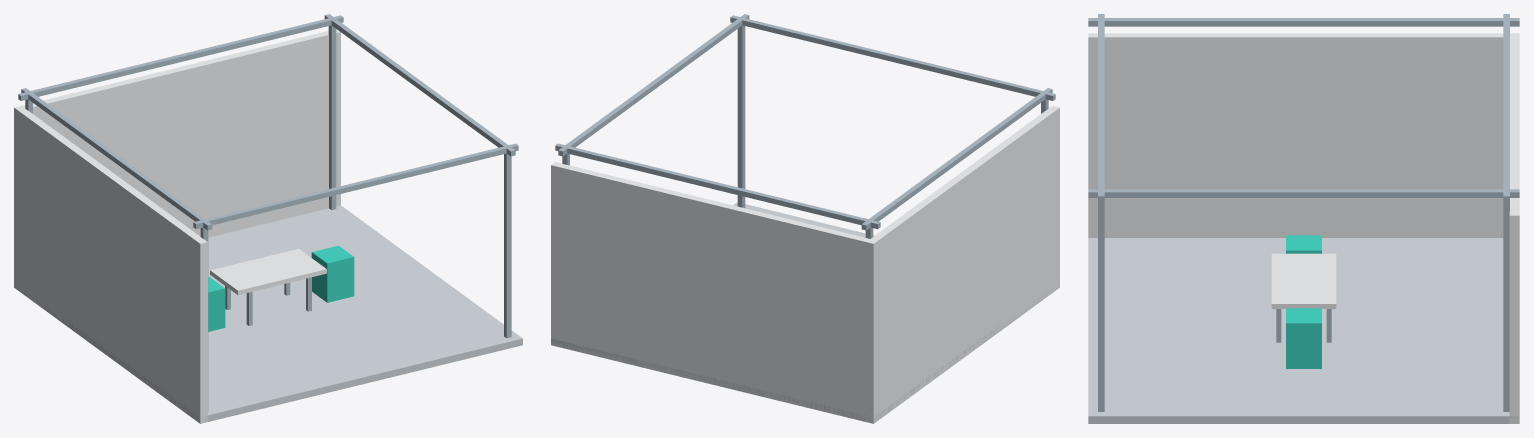
3 renders of one model, left to right at view 1: azimuth 30°, elevation 25°; view 2: azimuth 150°, elevation 25°; view 3: azimuth 270°, elevation 25°, orthographic. The views are drawn at different scales.
Parts seen in each view (by area): view 1: Exhibition Booth Concept; view 2: Exhibition Booth Concept; view 3: Exhibition Booth Concept.
Boxes of the visible parts, x1,y1,x2,y2 form: Exhibition Booth Concept: (14,14,522,423); Exhibition Booth Concept: (551,14,1059,423); Exhibition Booth Concept: (1088,14,1519,423).
Bounding box in the file's own units: 6 × 3.49 × 6.
